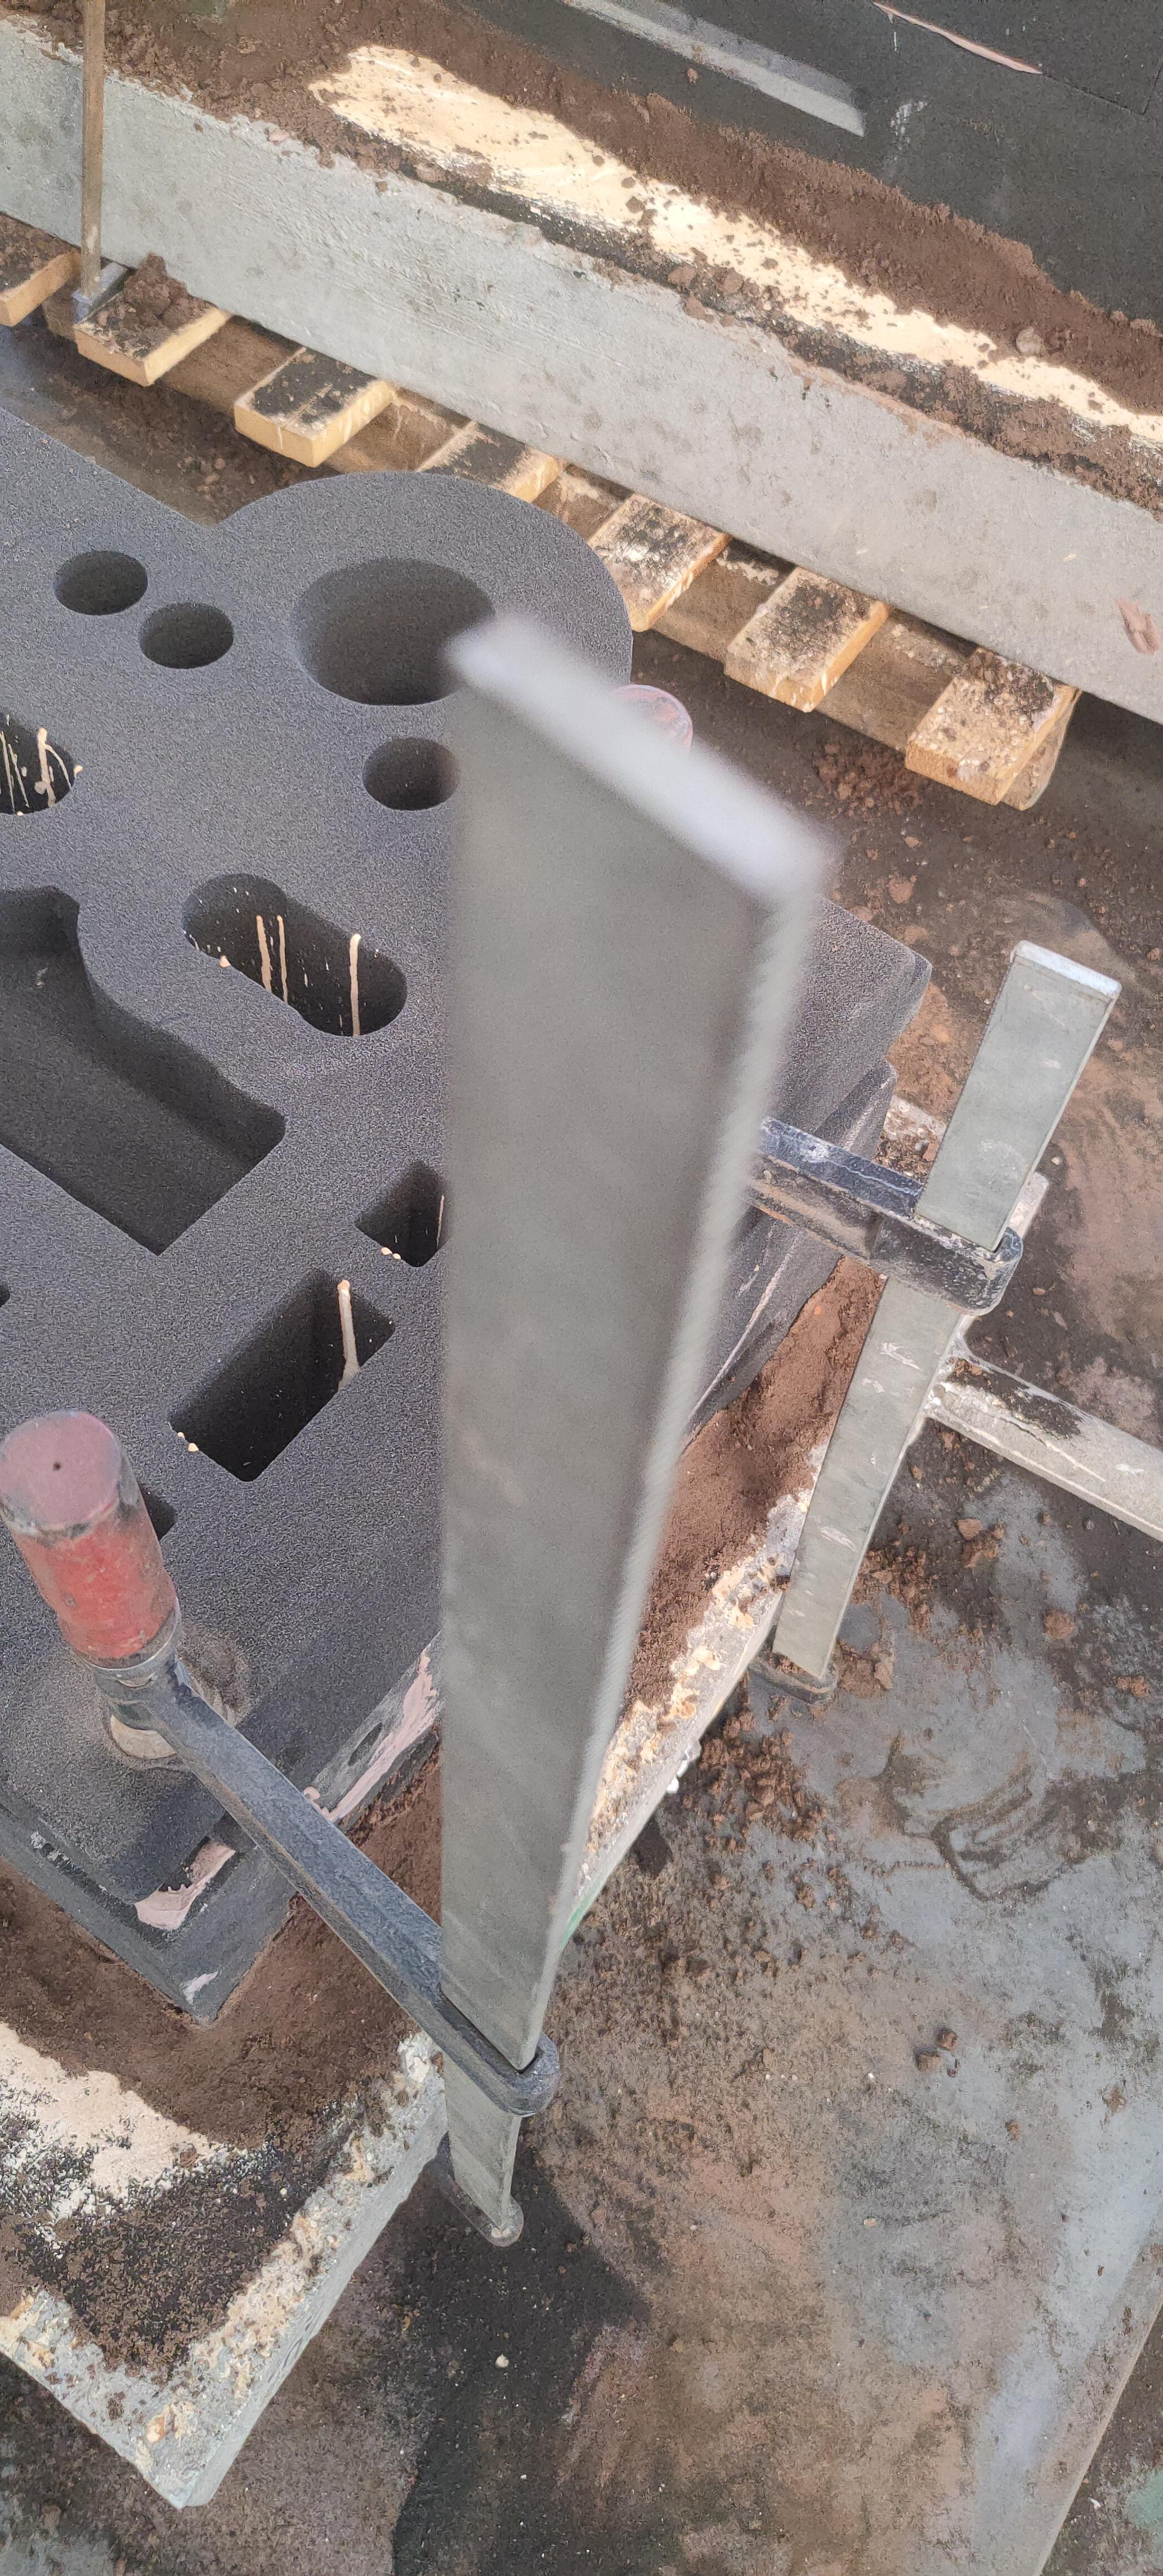pouring hole: (284, 557, 499, 708)
